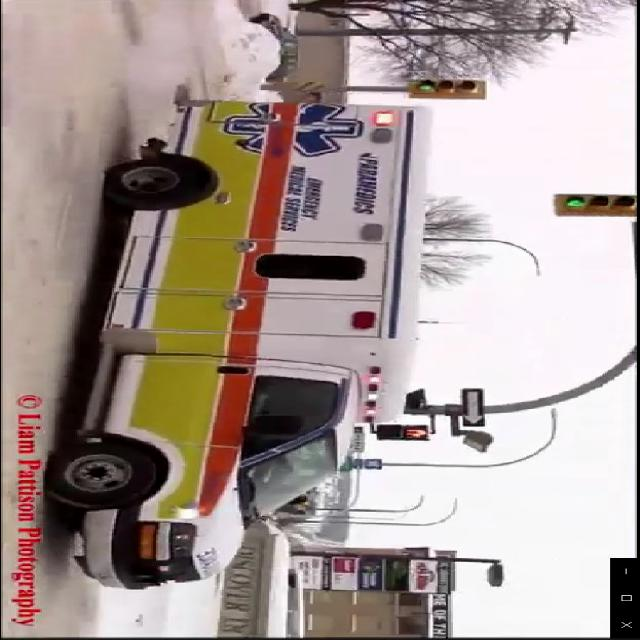emergency: (42, 97, 440, 592)
